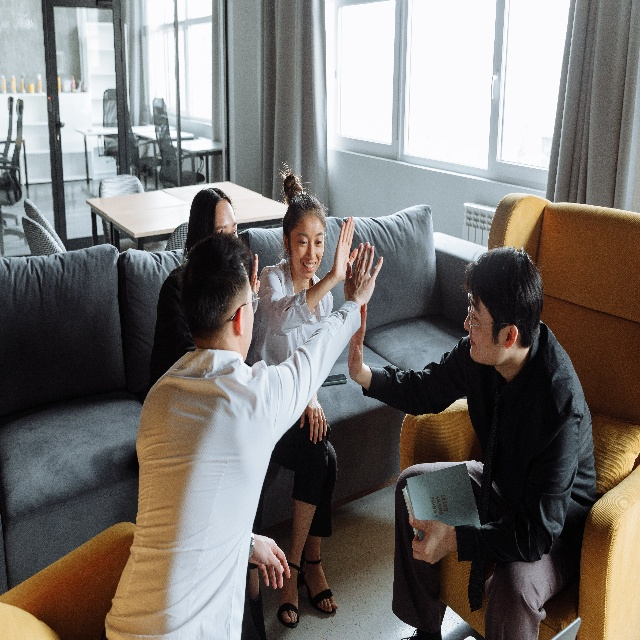Gafas: (467, 291, 510, 336), (230, 290, 260, 321)
Sin_guantes: (344, 240, 384, 308), (249, 534, 291, 591), (408, 515, 452, 563), (331, 213, 359, 283), (347, 302, 368, 382), (299, 391, 327, 444), (250, 254, 262, 294)
